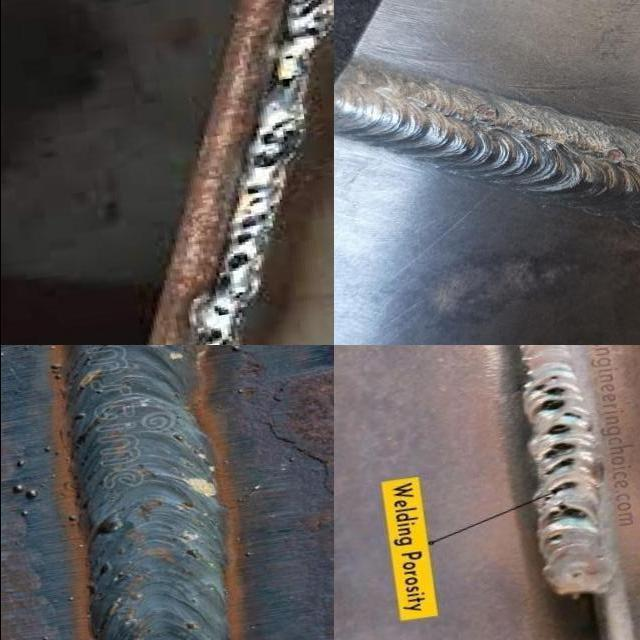defect: (246, 117, 303, 173), (231, 182, 264, 247), (530, 382, 583, 422), (214, 247, 251, 293), (291, 0, 327, 41), (543, 502, 591, 524), (541, 479, 581, 505), (196, 323, 241, 345), (542, 442, 575, 459), (544, 458, 575, 476), (276, 70, 301, 92), (601, 145, 624, 164), (472, 103, 497, 120), (208, 301, 233, 318), (507, 117, 531, 134), (543, 423, 572, 436), (560, 129, 579, 143), (545, 532, 565, 545), (281, 54, 295, 63), (548, 376, 558, 381)
